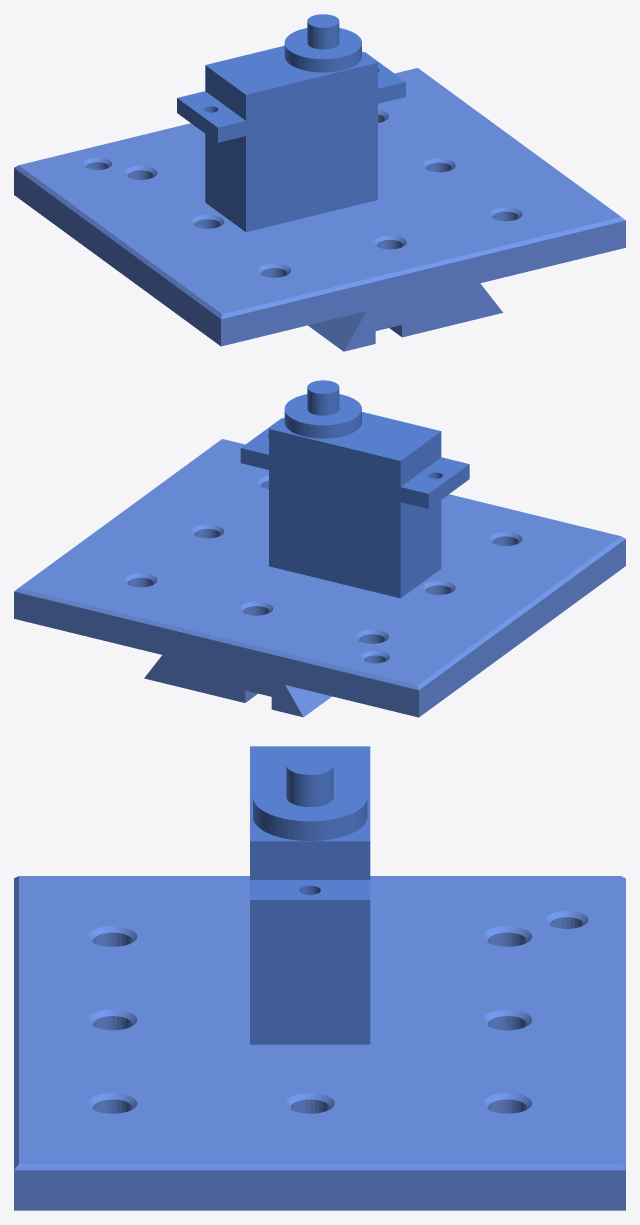
File: attachment_example.glb
3 views of the same model, one above another, from view 1: azimuth 30°, elevation 25°; view 2: azimuth 150°, elevation 25°; view 3: azimuth 270°, elevation 25° (orthographic). The views are drawn at different scales.
Parts seen in each view (by area): view 1: attachment_example; view 2: attachment_example; view 3: attachment_example.
Part boxes in pixels (x1,y1,x2,y2): attachment_example: [14, 14, 625, 351]; attachment_example: [14, 380, 625, 717]; attachment_example: [14, 746, 625, 1210].
Bounding box in the file's own units: 0.07 × 0.0393 × 0.062.
